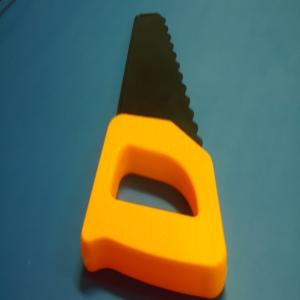serrote: (80, 12, 228, 299)
